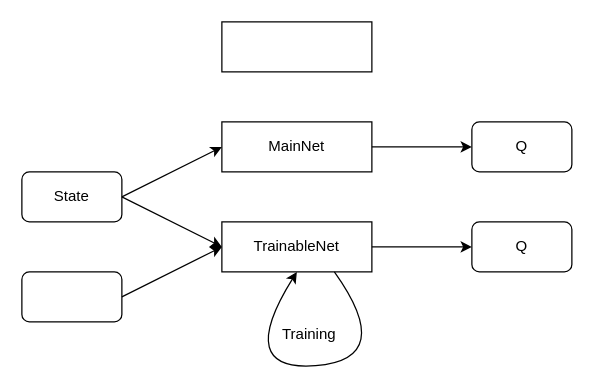
This 594x389 diagram has some shape labels left out. Each missing label, with the centre of its shape:
"Action" belongs at (x=71, y=296).
"TargetNet" belongs at (x=296, y=46).
